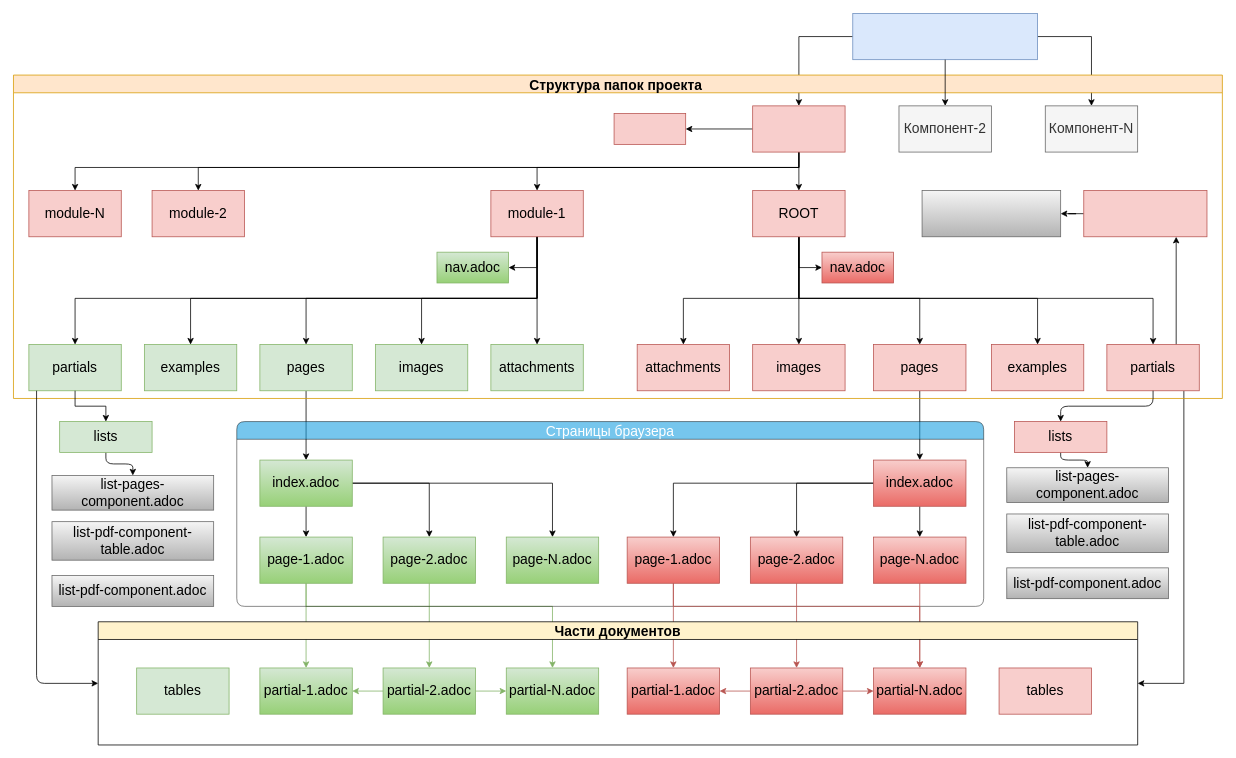
Some shapes in this 1236 by 758 pixel diagram are drawn without their labels. The shapes that lost their labels are listed below. From the top down, each one's centre as x and y in pixels, then its label:
(945,36): antora-playbook.yml
(649,128): antora.yml
(798,128): Компонент-1
(991,213): t_list_modules.adoc
(1145,213): tables-component
